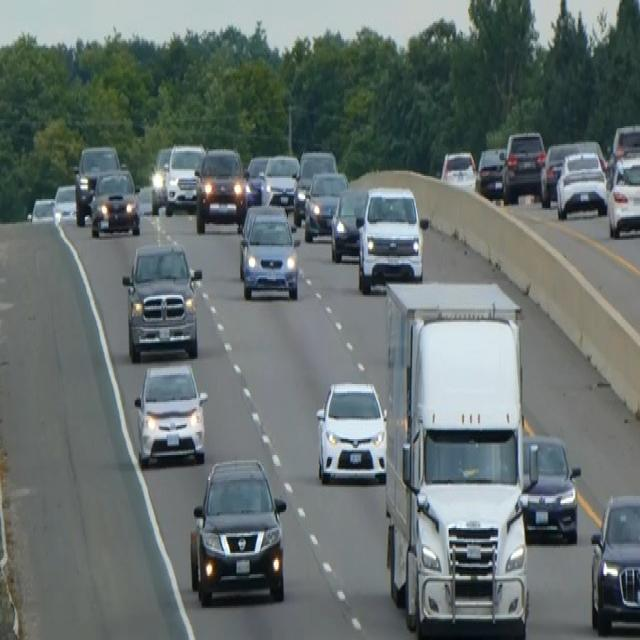car: (189, 455, 287, 606), (121, 238, 202, 361), (133, 359, 208, 466), (315, 379, 387, 485), (357, 183, 425, 292), (589, 491, 639, 633), (520, 432, 581, 544), (238, 202, 300, 300), (194, 144, 247, 233), (73, 142, 120, 224), (555, 148, 607, 218), (89, 166, 140, 237), (501, 128, 546, 203), (293, 148, 337, 224), (303, 169, 348, 242), (329, 185, 368, 261), (164, 142, 205, 214), (606, 151, 639, 238), (539, 140, 579, 204), (261, 153, 299, 208), (608, 121, 639, 181), (475, 146, 506, 199), (440, 148, 476, 190), (150, 144, 172, 212), (244, 153, 269, 204), (53, 183, 77, 224), (27, 196, 57, 226)
lorry: (382, 277, 530, 638)
